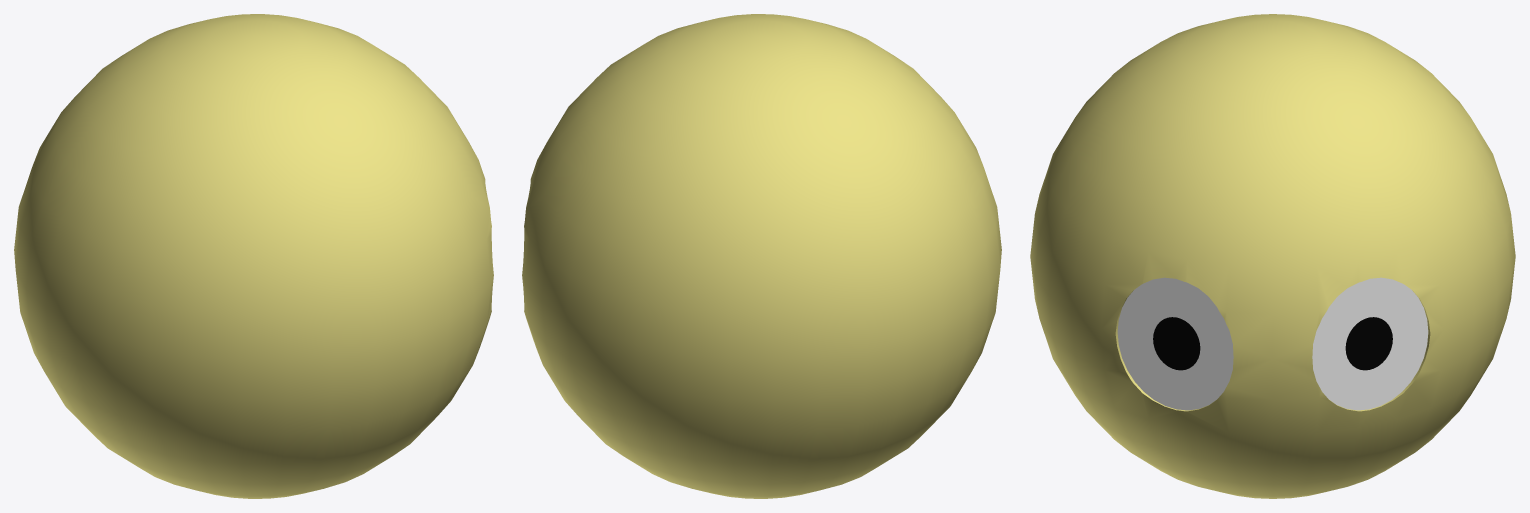
Rendered from PeasantPopulationIcon.fbx.
3 views of the same model, side by side, from view 1: azimuth 30°, elevation 25°; view 2: azimuth 150°, elevation 25°; view 3: azimuth 270°, elevation 25° (orthographic).
Parts seen in each view (by area): view 1: Sphere; view 2: Sphere; view 3: Sphere, Cylinder, Cylinder.001.
Boxes of the visible parts, x1=… form: Sphere: x1=14, y1=14, x2=493, y2=498; Sphere: x1=522, y1=14, x2=1001, y2=498; Sphere: x1=1030, y1=14, x2=1515, y2=498; Cylinder: x1=1117, y1=277, x2=1233, y2=410; Cylinder.001: x1=1312, y1=277, x2=1428, y2=410.
Bounding box in the file's own units: 25 × 25 × 25.
